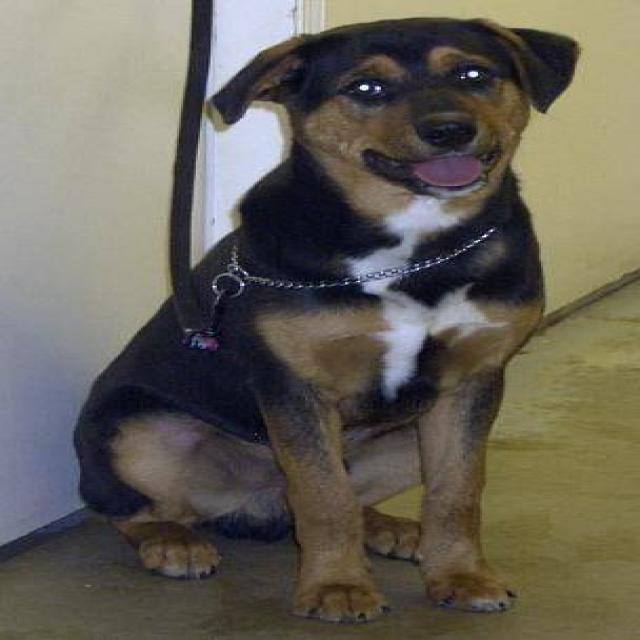dog: (69, 16, 579, 624)
